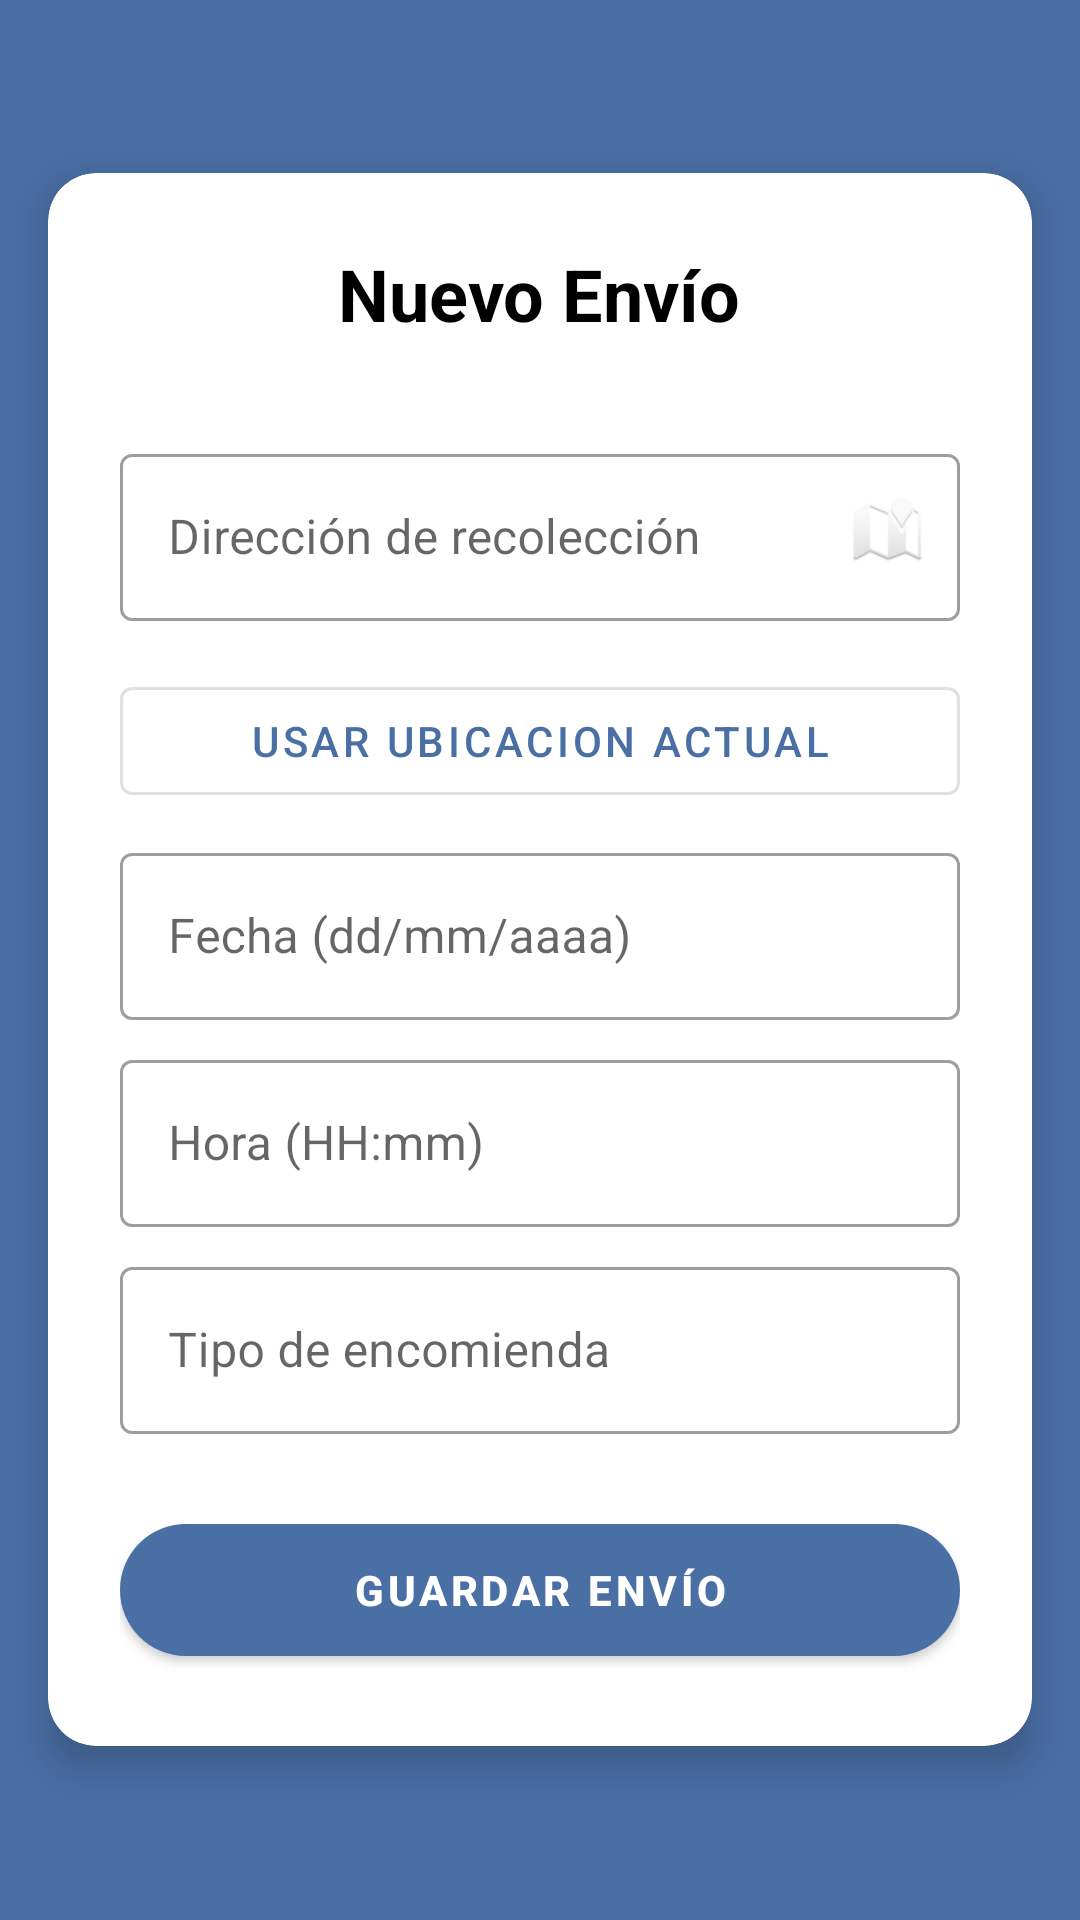

Where to tap for icons on this 1080 x 1920 app screen, as [x,y]:
map: [887,532]
